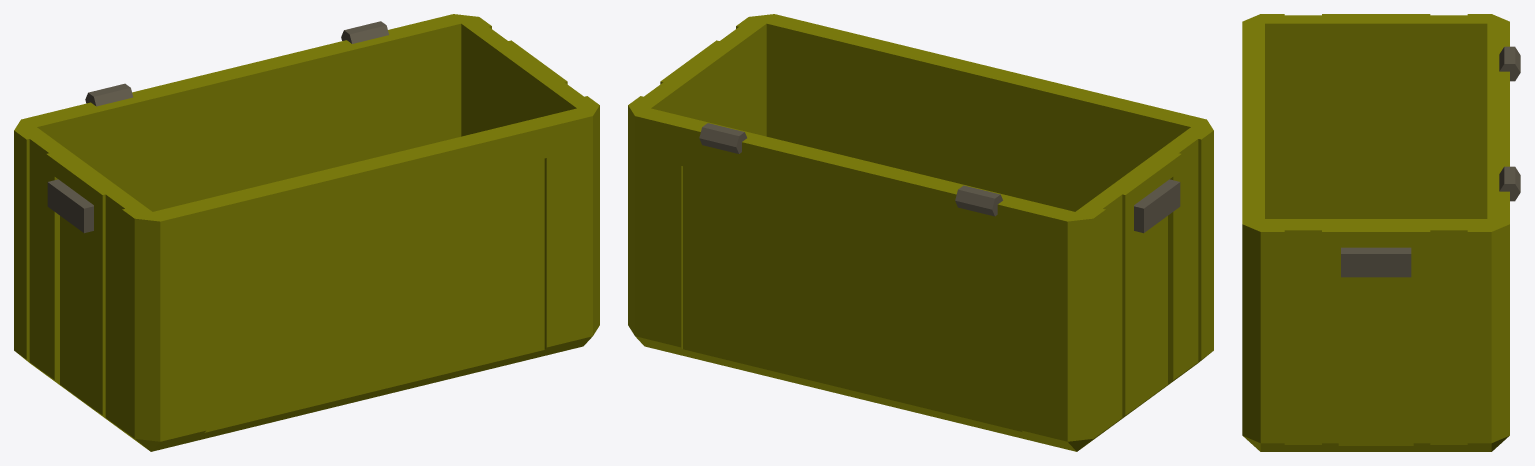
Rendered from BigAmoBox_01.fbx.
3 renders of one model, left to right at view 1: azimuth 30°, elevation 25°; view 2: azimuth 150°, elevation 25°; view 3: azimuth 270°, elevation 25°, orthographic. The views are drawn at different scales.
Parts seen in each view (by area): view 1: BigAmoBox_01; view 2: BigAmoBox_01; view 3: BigAmoBox_01.
Part boxes in pixels (x1,y1,x2,y2): BigAmoBox_01: (14, 14, 599, 451); BigAmoBox_01: (628, 14, 1213, 451); BigAmoBox_01: (1242, 14, 1520, 451).
Bounding box in the file's own units: 0.978 × 0.4751 × 0.5092.
